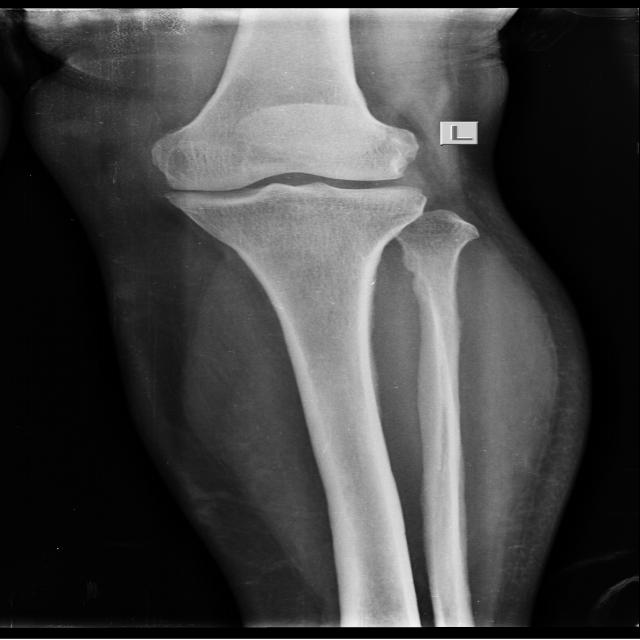normal: (145, 127, 436, 220)
